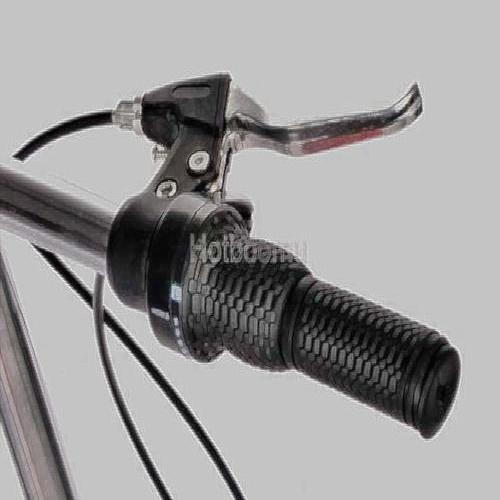bicycle: (26, 76, 448, 440)
